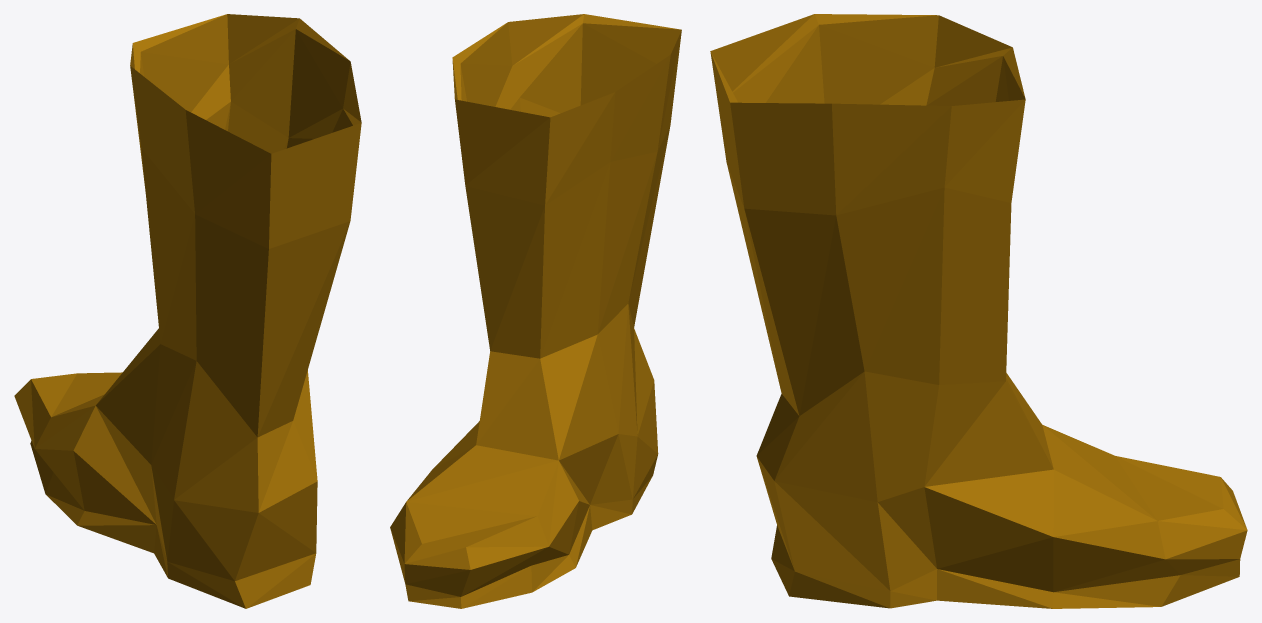
File: ZABAKS_001.FBX
The picture shows the model from 3 angles, left to right: view 1: azimuth 30°, elevation 25°; view 2: azimuth 150°, elevation 25°; view 3: azimuth 270°, elevation 25°; orthographic projection. The views are drawn at different scales.
Parts seen in each view (by area): view 1: ZABAKS_001; view 2: ZABAKS_001; view 3: ZABAKS_001.
Boxes of the visible parts, box(x1,y1,x2,y2) form: ZABAKS_001: box(14, 14, 361, 608); ZABAKS_001: box(390, 14, 681, 608); ZABAKS_001: box(710, 14, 1247, 608).
Size of the model in its own units: 150 by 380 by 353.
